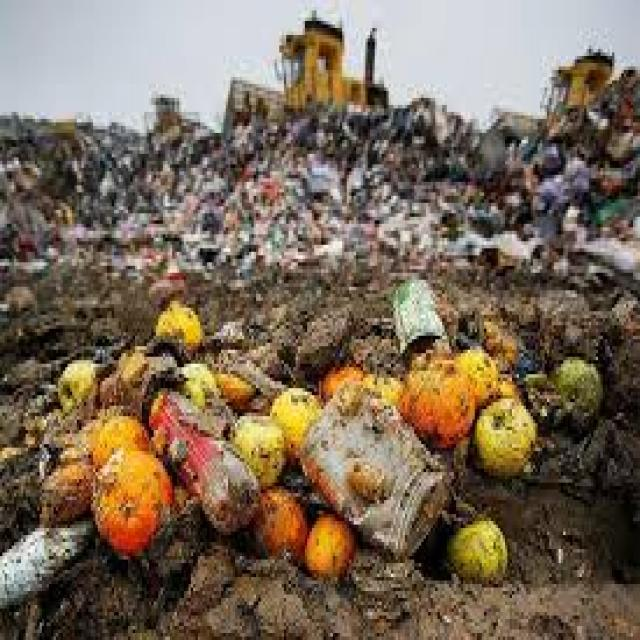Food -Biodegradable-: (0, 274, 611, 613)
